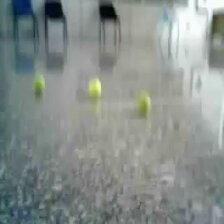tennis: (134, 91, 151, 116), (31, 73, 46, 93), (86, 76, 102, 94)
